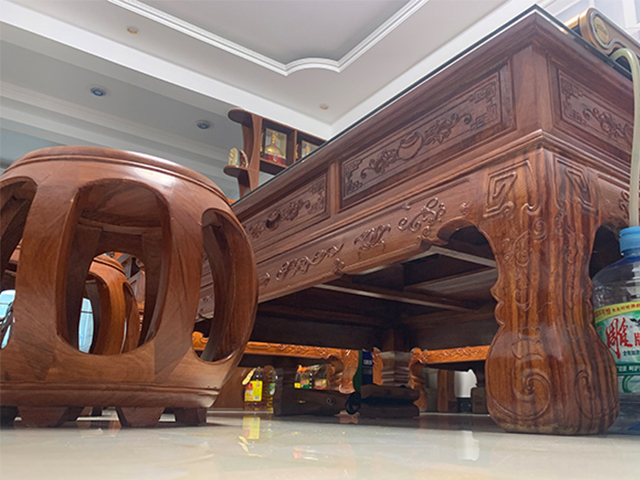stool: (1, 144, 260, 430)
table: (233, 3, 639, 438)
